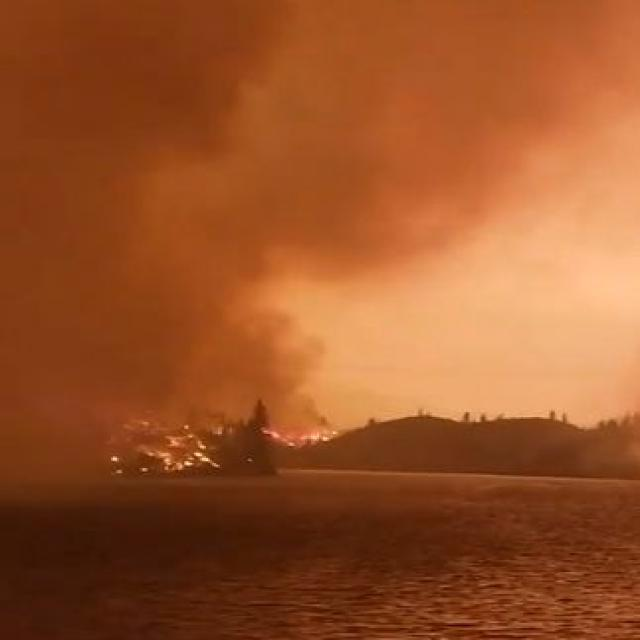Smoke: (18, 0, 640, 466)
